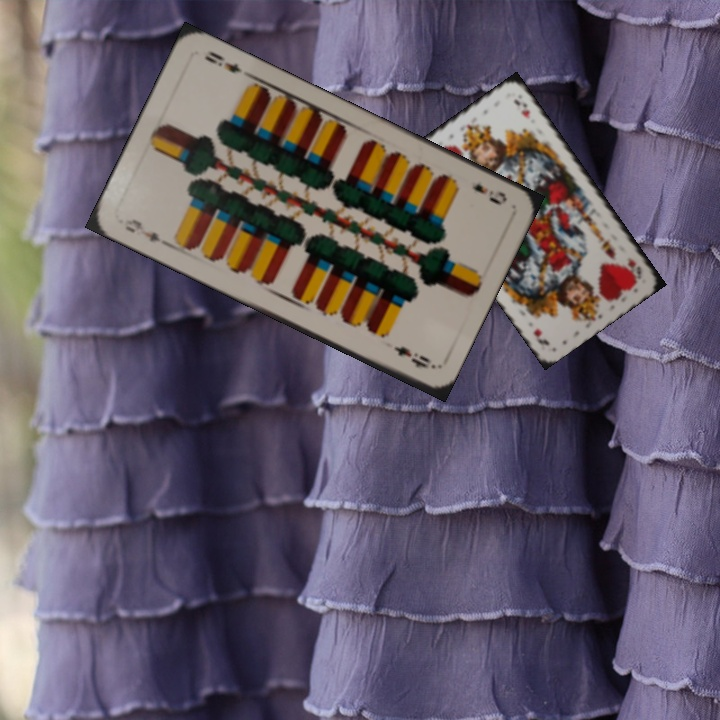E9: (120, 215, 171, 248), (467, 179, 510, 208)
HK: (623, 254, 644, 282)
